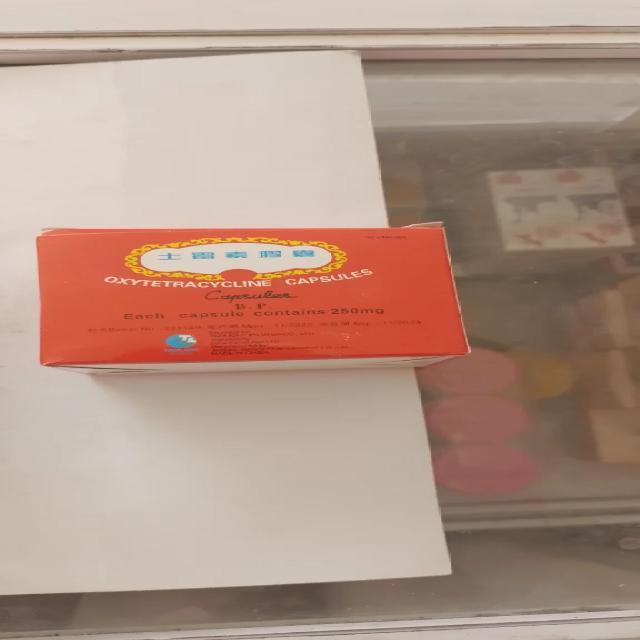drug-name: (97, 274, 274, 291)
